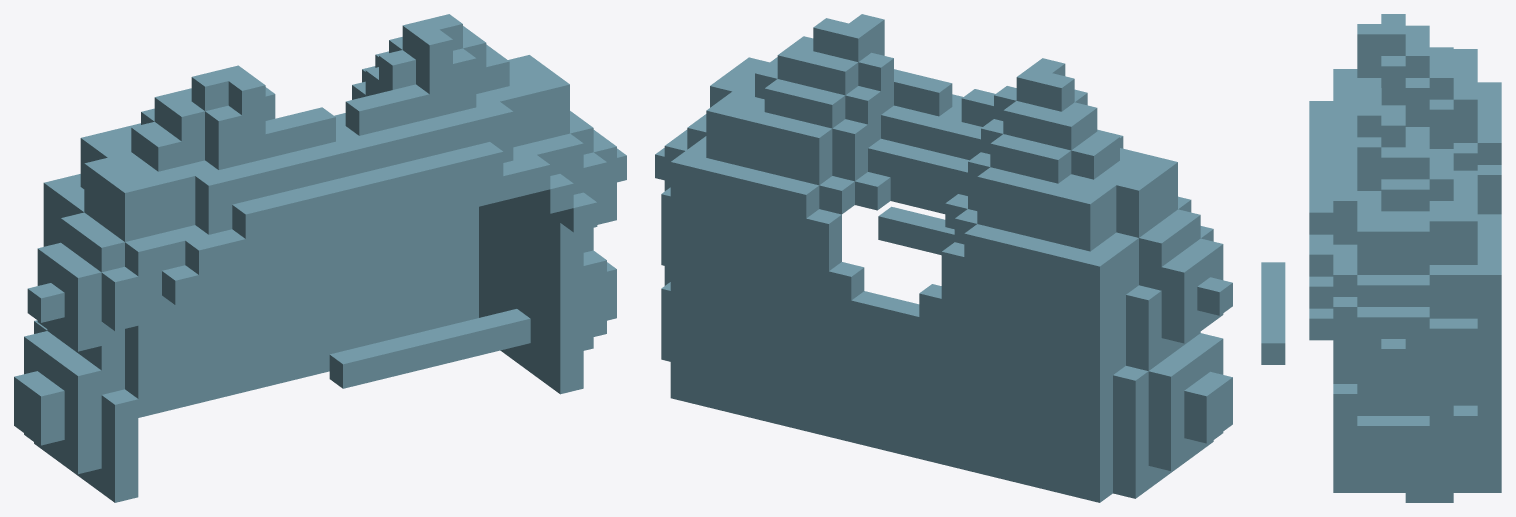
File: accessories_head_rick.glb
3 renders of one model, left to right at view 1: azimuth 30°, elevation 25°; view 2: azimuth 150°, elevation 25°; view 3: azimuth 270°, elevation 25°, orthographic. The views are drawn at different scales.
Parts seen in each view (by area): view 1: model_0; view 2: model_0; view 3: model_0.
Part boxes in pixels (x1,y1,x2,y2): model_0: (14,14,626,502); model_0: (655,14,1232,502); model_0: (1261,14,1501,502).
Size of the model in its own units: 25 by 15 by 10.
